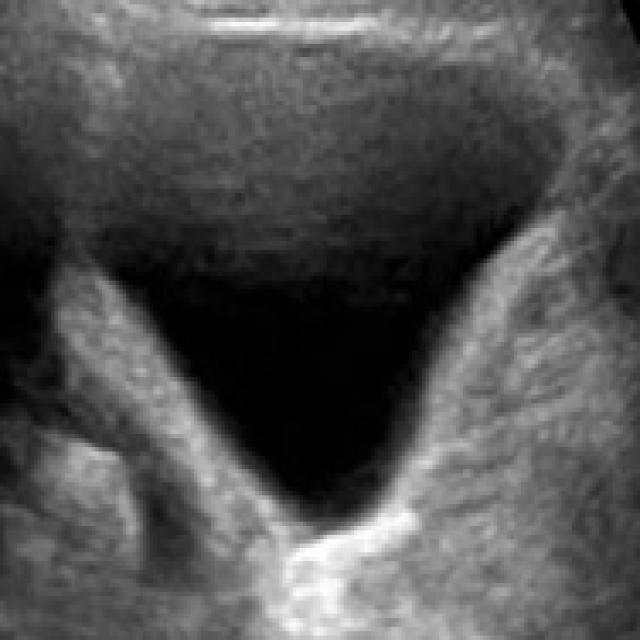bladder: (51, 14, 600, 580)
